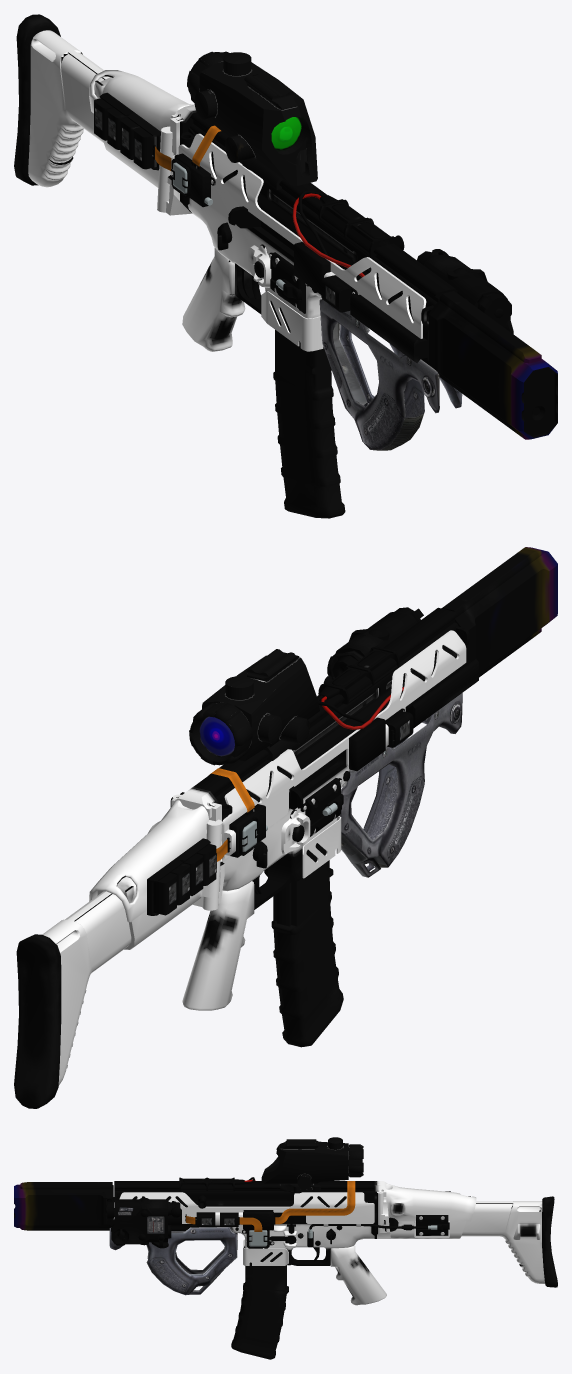
The model's file is AssaultRifle 1.fbx.
3 renders of one model, top to bottom at view 1: azimuth 30°, elevation 25°; view 2: azimuth 150°, elevation 25°; view 3: azimuth 270°, elevation 25°, orthographic. The views are drawn at different scales.
Visible parts, largest first — view 1: WEAPON_PRIMARY_AR_SCARL_LOD0, WEAPON_PRIMARY_AR_SCARL_Provoda, SET_SCOPE1_ARMGDMRSMGSG_BRAVO4_LOD0, AR_MAG_2, SET_FWD_GRIP, SET_LASERDESIGNATOR_ANPEQ15_LOD0; view 2: WEAPON_PRIMARY_AR_SCARL_LOD0, WEAPON_PRIMARY_AR_SCARL_Provoda, SET_SCOPE1_ARMGDMRSMGSG_BRAVO4_LOD0, AR_MAG_2, SET_FWD_GRIP, SET_LASERDESIGNATOR_ANPEQ15_LOD0; view 3: WEAPON_PRIMARY_AR_SCARL_LOD0, WEAPON_PRIMARY_AR_SCARL_Provoda, SET_SCOPE1_ARMGDMRSMGSG_BRAVO4_LOD0, AR_MAG_2, SET_FWD_GRIP, SET_LASERDESIGNATOR_ANPEQ15_LOD0, LaserSticker.
Boxes of the visible parts, box(x1,y1,x2,y2) form: WEAPON_PRIMARY_AR_SCARL_LOD0: box(14, 14, 539, 415); WEAPON_PRIMARY_AR_SCARL_Provoda: box(94, 92, 557, 439); SET_SCOPE1_ARMGDMRSMGSG_BRAVO4_LOD0: box(187, 51, 317, 189); AR_MAG_2: box(273, 330, 345, 518); SET_FWD_GRIP: box(319, 299, 462, 450); SET_LASERDESIGNATOR_ANPEQ15_LOD0: box(417, 249, 513, 333); WEAPON_PRIMARY_AR_SCARL_LOD0: box(14, 607, 478, 1108); WEAPON_PRIMARY_AR_SCARL_Provoda: box(147, 547, 557, 915); SET_SCOPE1_ARMGDMRSMGSG_BRAVO4_LOD0: box(189, 649, 319, 765); AR_MAG_2: box(271, 852, 343, 1047); SET_FWD_GRIP: box(339, 693, 462, 877); SET_LASERDESIGNATOR_ANPEQ15_LOD0: box(327, 607, 423, 679); WEAPON_PRIMARY_AR_SCARL_LOD0: box(103, 1181, 557, 1305); WEAPON_PRIMARY_AR_SCARL_Provoda: box(14, 1177, 450, 1265); SET_SCOPE1_ARMGDMRSMGSG_BRAVO4_LOD0: box(261, 1137, 363, 1193); AR_MAG_2: box(231, 1261, 288, 1359); SET_FWD_GRIP: box(109, 1227, 237, 1295); SET_LASERDESIGNATOR_ANPEQ15_LOD0: box(105, 1197, 181, 1248); LaserSticker: box(146, 1215, 165, 1235).
Bounding box in the file's own units: 9.92 × 36.8 × 83.58.
